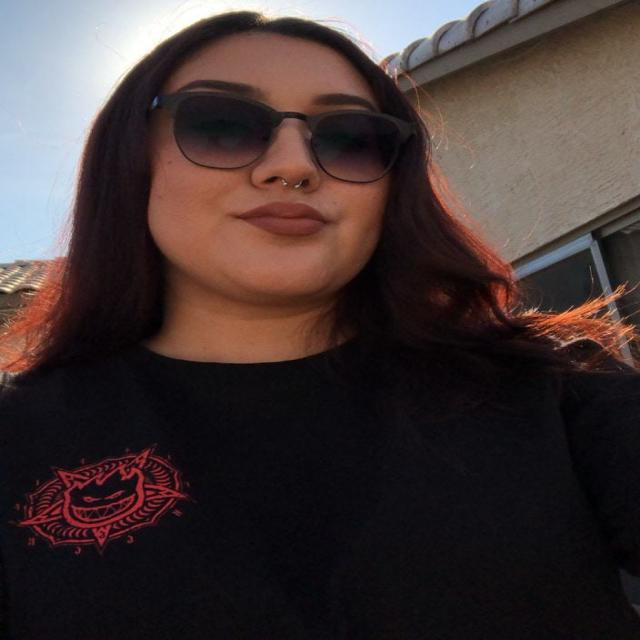2_gafas: (146, 89, 417, 184)
